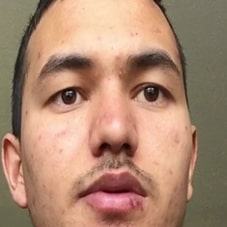awake: (34, 40, 185, 227)
